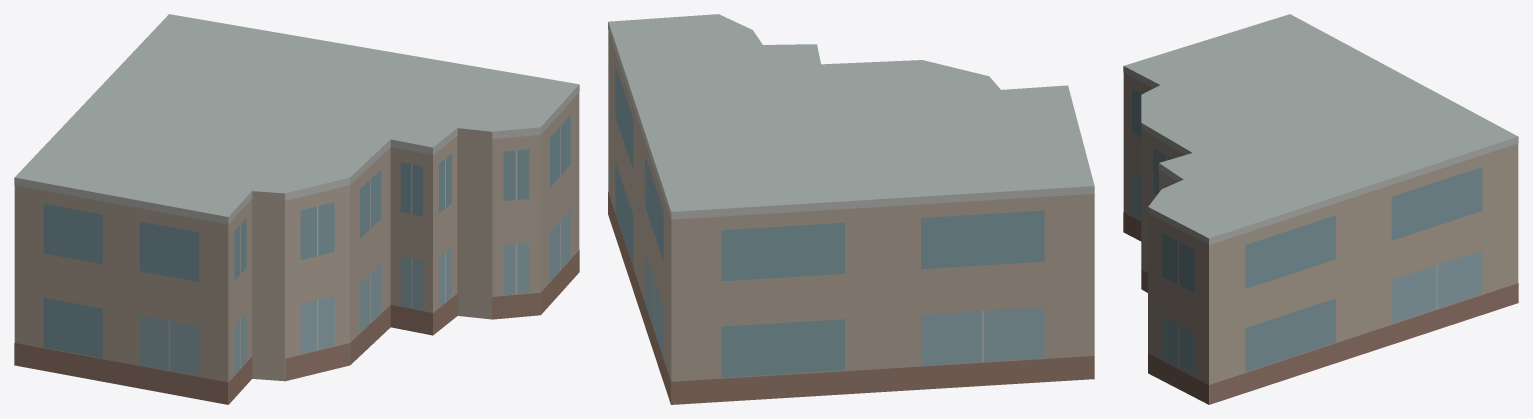
Rendered from survey-upis-32493441.glb.
3 renders of one model, left to right at view 1: azimuth 30°, elevation 25°; view 2: azimuth 150°, elevation 25°; view 3: azimuth 270°, elevation 25°, orthographic. The views are drawn at different scales.
Visible parts, largest first — view 1: survey-upis-32493441.tmp; view 2: survey-upis-32493441.tmp; view 3: survey-upis-32493441.tmp.
Boxes of the visible parts, bbox=[...] form: survey-upis-32493441.tmp: bbox=[14, 14, 579, 404]; survey-upis-32493441.tmp: bbox=[608, 14, 1094, 404]; survey-upis-32493441.tmp: bbox=[1123, 14, 1518, 404].
Size of the model in its own units: 17.66 by 6.1 by 13.13.
